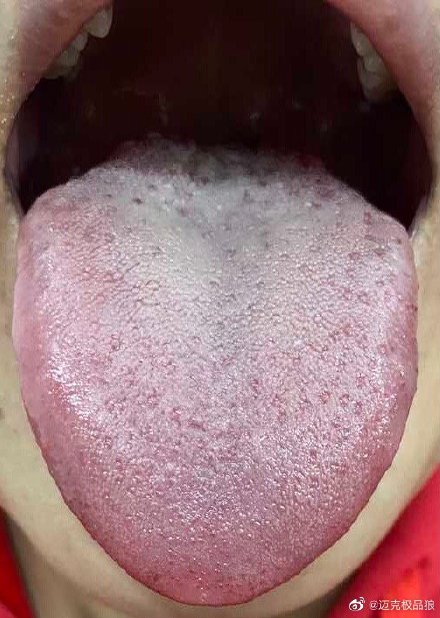baitaishe: (11, 134, 418, 606)
hongdianshe: (129, 192, 145, 209)
